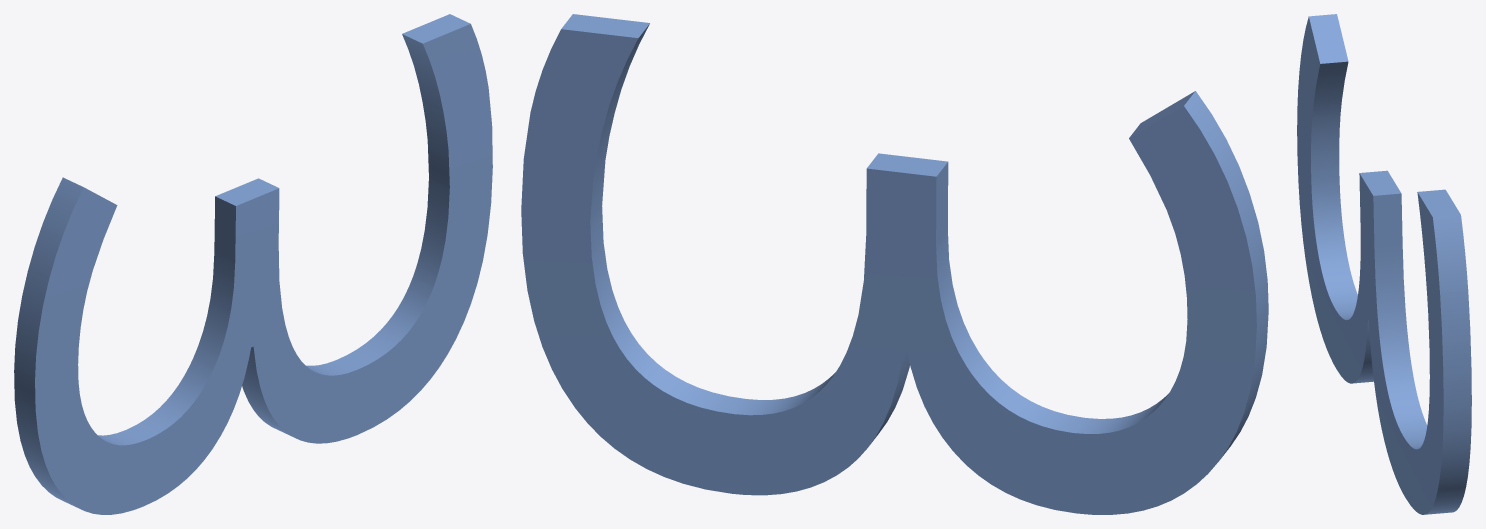
Rendered from New_Number_3.gltf.
3 views of the same model, side by side, from view 1: azimuth 30°, elevation 25°; view 2: azimuth 150°, elevation 25°; view 3: azimuth 270°, elevation 25° (orthographic). The views are drawn at different scales.
Parts seen in each view (by area): view 1: Part 426; view 2: Part 426; view 3: Part 426.
Boxes of the visible parts, <box> form: Part 426: <box>14,14,492,514</box>; Part 426: <box>521,14,1268,514</box>; Part 426: <box>1297,14,1471,514</box>.
Size of the model in its own units: 0.00507 by 0.0033 by 0.00154.
